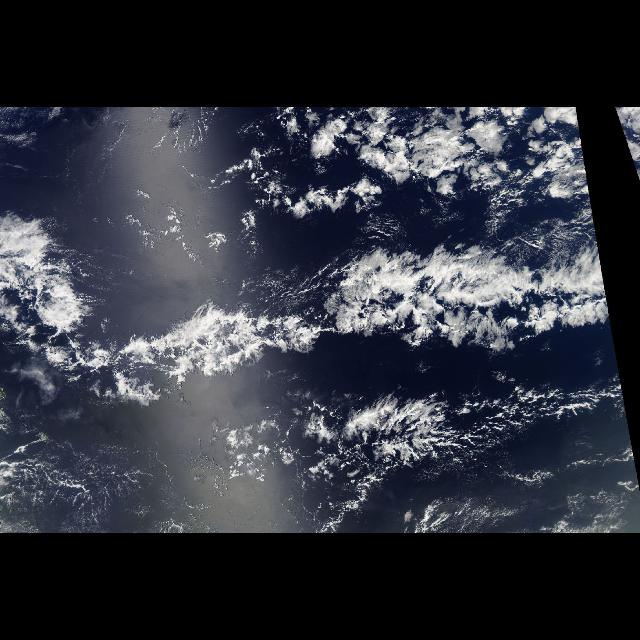Fish: (1, 205, 632, 508)
Flower: (280, 107, 594, 225), (614, 108, 640, 182)
